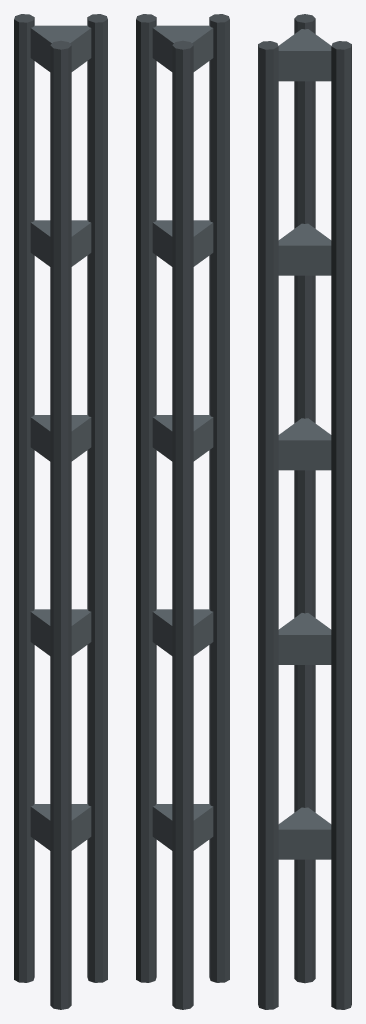
File: SM_Prop_Elevator_Frame_02.fbx
3 renders of one model, left to right at view 1: azimuth 90°, elevation 25°; view 2: azimuth 210°, elevation 25°; view 3: azimuth 270°, elevation 25°, orthographic.
Parts seen in each view (by area): view 1: SM_Prop_Elevator_Frame_02; view 2: SM_Prop_Elevator_Frame_02; view 3: SM_Prop_Elevator_Frame_02.
Part boxes in pixels (x1,y1,x2,y2): SM_Prop_Elevator_Frame_02: (14,14,107,1009); SM_Prop_Elevator_Frame_02: (136,14,229,1009); SM_Prop_Elevator_Frame_02: (258,14,351,1009).
Size of the model in its own units: 39.83 by 500 by 44.3.
